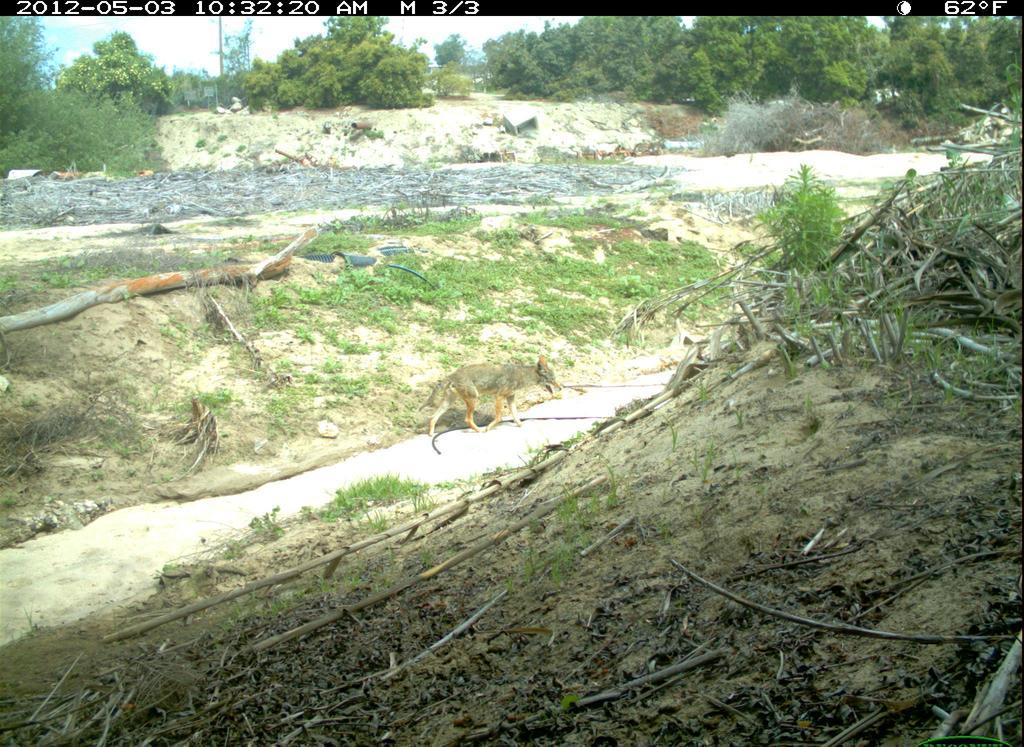coyote: (418, 353, 570, 447)
